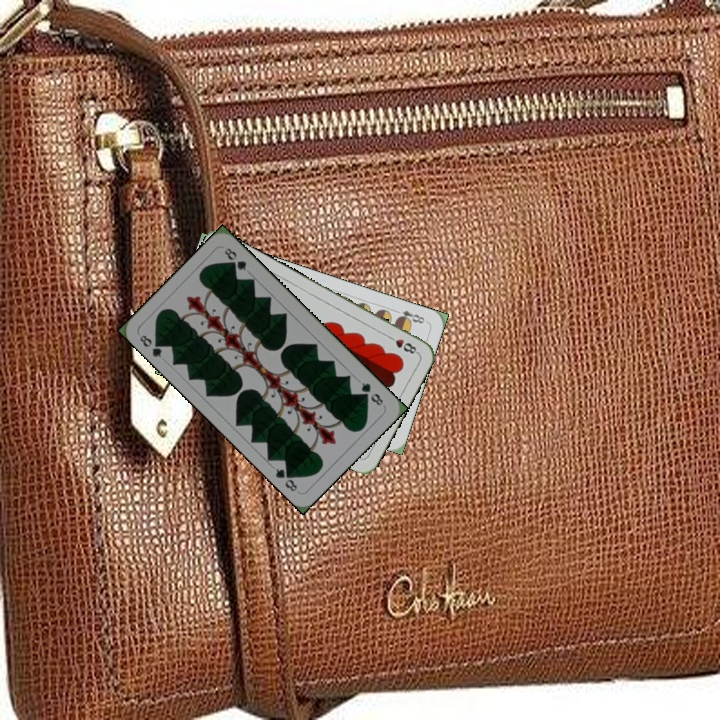E8: (390, 305, 427, 326)
G8: (357, 378, 387, 409), (136, 331, 166, 360)
H8: (383, 331, 420, 356)
